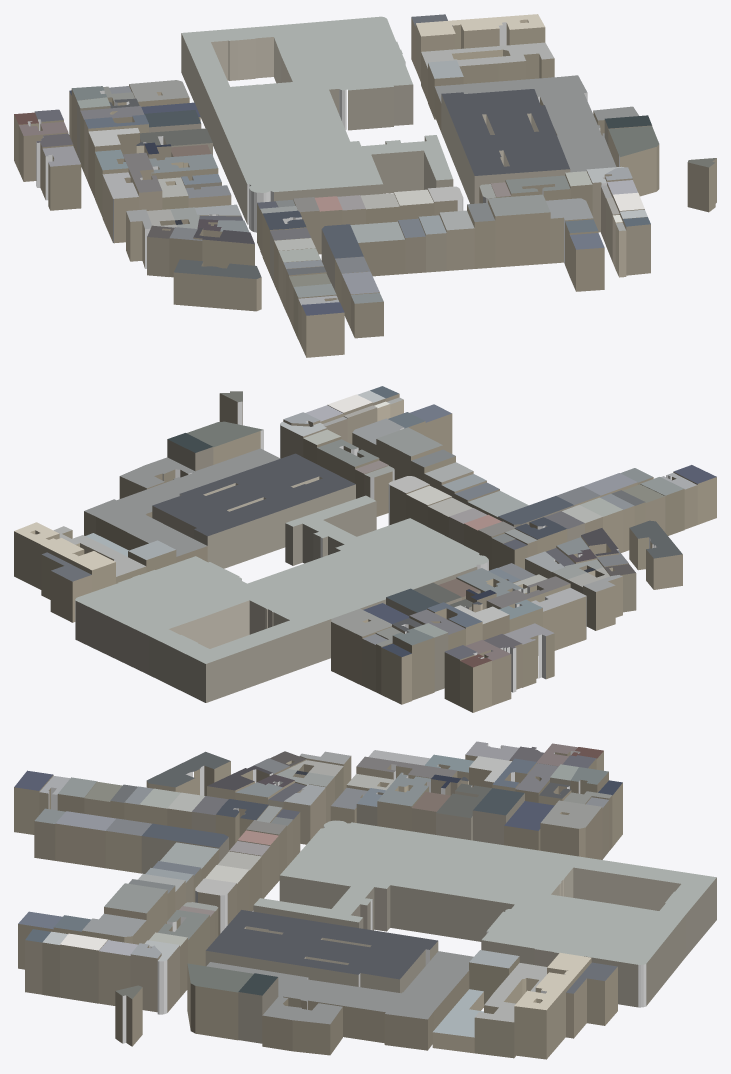
The picture shows the model from 3 angles, top to bottom: view 1: azimuth 30°, elevation 25°; view 2: azimuth 150°, elevation 25°; view 3: azimuth 270°, elevation 25°; orthographic projection. The views are drawn at different scales.
Parts seen in each view (by area): view 1: tuile; view 2: tuile; view 3: tuile.
Part boxes in pixels (left/top/right/bottom): tuile: left=14, top=14, right=716, bottom=357; tuile: left=14, top=386, right=716, bottom=712; tuile: left=14, top=741, right=716, bottom=1059.
Size of the model in its own units: 272 by 30.32 by 297.
